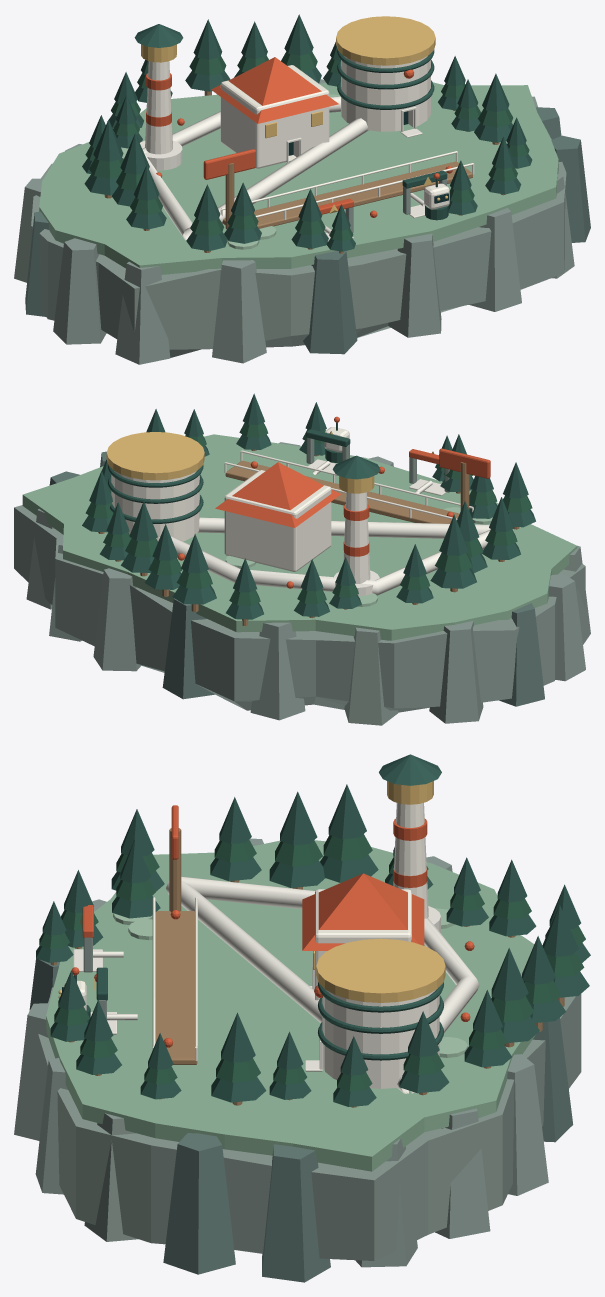
File: chapter-08.glb
3 renders of one model, top to bottom at view 1: azimuth 30°, elevation 25°; view 2: azimuth 150°, elevation 25°; view 3: azimuth 270°, elevation 25°, orthographic. The views are drawn at different scales.
Parts seen in each view (by area): view 1: terrain, rock_base, landmark_encoder, cliff_facet_11, landmark_archive_0, cliff_facet_09, cliff_facet_12, vault_cap_0, roof_encoder, cliff_facet_13, cliff_facet_10, cliff_facet_14 (+42 smaller); view 2: terrain, rock_base, landmark_encoder, vault_cap_0, roof_encoder, cliff_facet_03, cliff_facet_07, landmark_archive_0, cliff_facet_06, cliff_facet_05, long_route_curve, cliff_facet_09 (+35 smaller); view 3: terrain, rock_base, cliff_facet_16, vault_cap_0, cliff_facet_00, roof_encoder, shortcut, landmark_archive_0, long_route_curve, cliff_facet_03, long_route, cliff_facet_02 (+44 smaller).
Boxes of the visible parts, <box> form: terrain: <box>39,82,558,274</box>; rock_base: <box>31,96,566,357</box>; landmark_encoder: <box>220,65,329,168</box>; cliff_facet_11: <box>212,260,266,363</box>; landmark_archive_0: <box>341,56,430,131</box>; cliff_facet_09: <box>53,238,106,344</box>; cliff_facet_12: <box>303,251,357,354</box>; vault_cap_0: <box>336,16,435,65</box>; roof_encoder: <box>211,57,338,123</box>; cliff_facet_13: <box>388,233,441,337</box>; cliff_facet_10: <box>115,261,170,364</box>; cliff_facet_14: <box>469,207,521,311</box>; terrain: <box>22,434,577,640</box>; rock_base: <box>14,505,585,712</box>; landmark_encoder: <box>224,470,331,571</box>; vault_cap_0: <box>106,432,204,480</box>; roof_encoder: <box>215,462,340,527</box>; cliff_facet_03: <box>93,568,140,671</box>; cliff_facet_07: <box>429,620,483,723</box>; landmark_archive_0: <box>111,471,199,541</box>; cliff_facet_06: <box>344,627,398,725</box>; cliff_facet_05: <box>250,622,305,720</box>; long_route_curve: <box>157,529,490,595</box>; cliff_facet_09: <box>549,574,585,681</box>; terrain: <box>46,840,535,1171</box>; rock_base: <box>38,987,581,1260</box>; cliff_facet_16: <box>163,1133,235,1274</box>; vault_cap_0: <box>316,938,445,1002</box>; cliff_facet_00: <box>262,1144,330,1282</box>; roof_encoder: <box>302,873,424,950</box>; shortcut: <box>155,911,197,1064</box>; landmark_archive_0: <box>322,990,439,1088</box>; long_route_curve: <box>181,876,479,1093</box>; cliff_facet_03: <box>507,1054,548,1195</box>; long_route: <box>166,880,412,1093</box>; cliff_facet_02: <box>435,1108,490,1238</box>.
Bounding box in the file's own units: 13.42 × 6 × 9.82.
